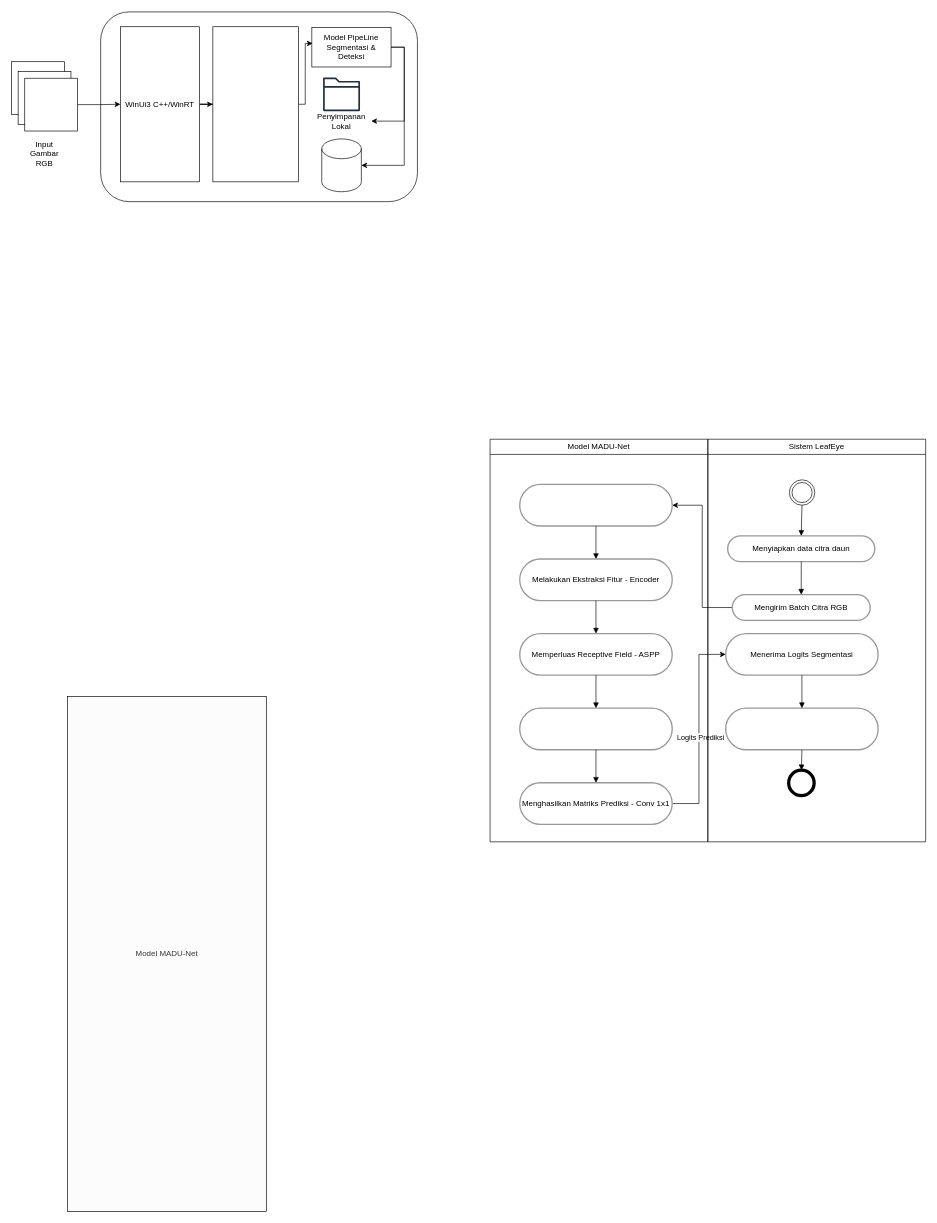
Some shapes in this 937 by 1223 pixel diagram are drawn without their labels. Here are the shapes that lost their labels. From the top down, the centre of each, then its label:
At point (255, 104): "Image Preprocessing dan augmentasi".
At point (341, 165): "ObjectBox".
At point (596, 504): "Menerima Input Citra B, 3, 256, 256".
At point (596, 728): "Melakukan Rekonstruksi Spasial - Decoder".
At point (801, 728): "Mengonversi Logits menjadi Binary Mask".
